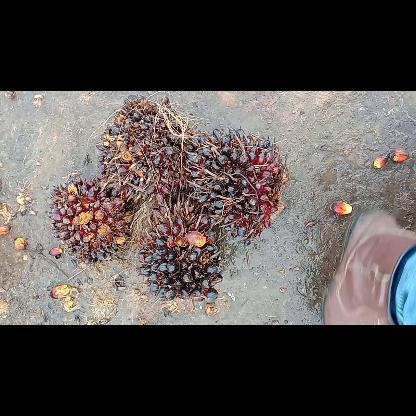TBS abnormal: (180, 123, 294, 241), (136, 195, 226, 306)
TBS masak: (92, 91, 198, 207), (46, 174, 138, 264)
